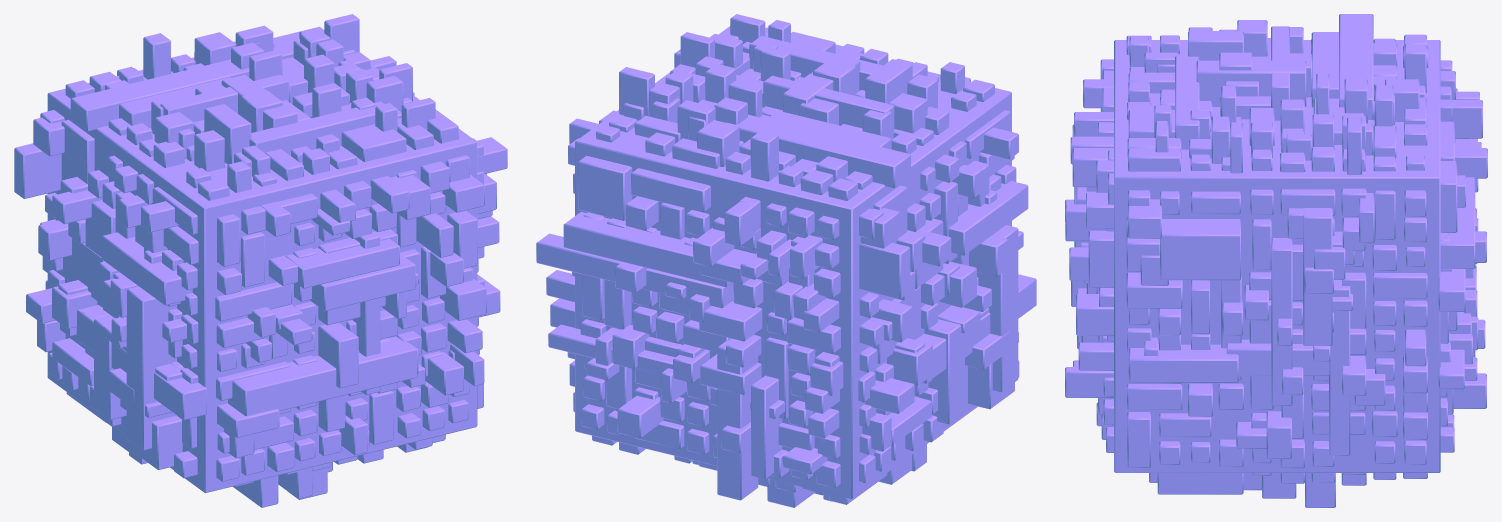
File: tech_fragment.glb
3 views of the same model, side by side, from view 1: azimuth 30°, elevation 25°; view 2: azimuth 150°, elevation 25°; view 3: azimuth 270°, elevation 25° (orthographic). The views are drawn at different scales.
Parts seen in each view (by area): view 1: TechFragment; view 2: TechFragment; view 3: TechFragment.
Part boxes in pixels (bbox=[...]): TechFragment: bbox=[14, 14, 507, 507]; TechFragment: bbox=[536, 14, 1036, 507]; TechFragment: bbox=[1065, 14, 1487, 507].
Bounding box in the file's own units: 1.3 × 1.29 × 1.29.
